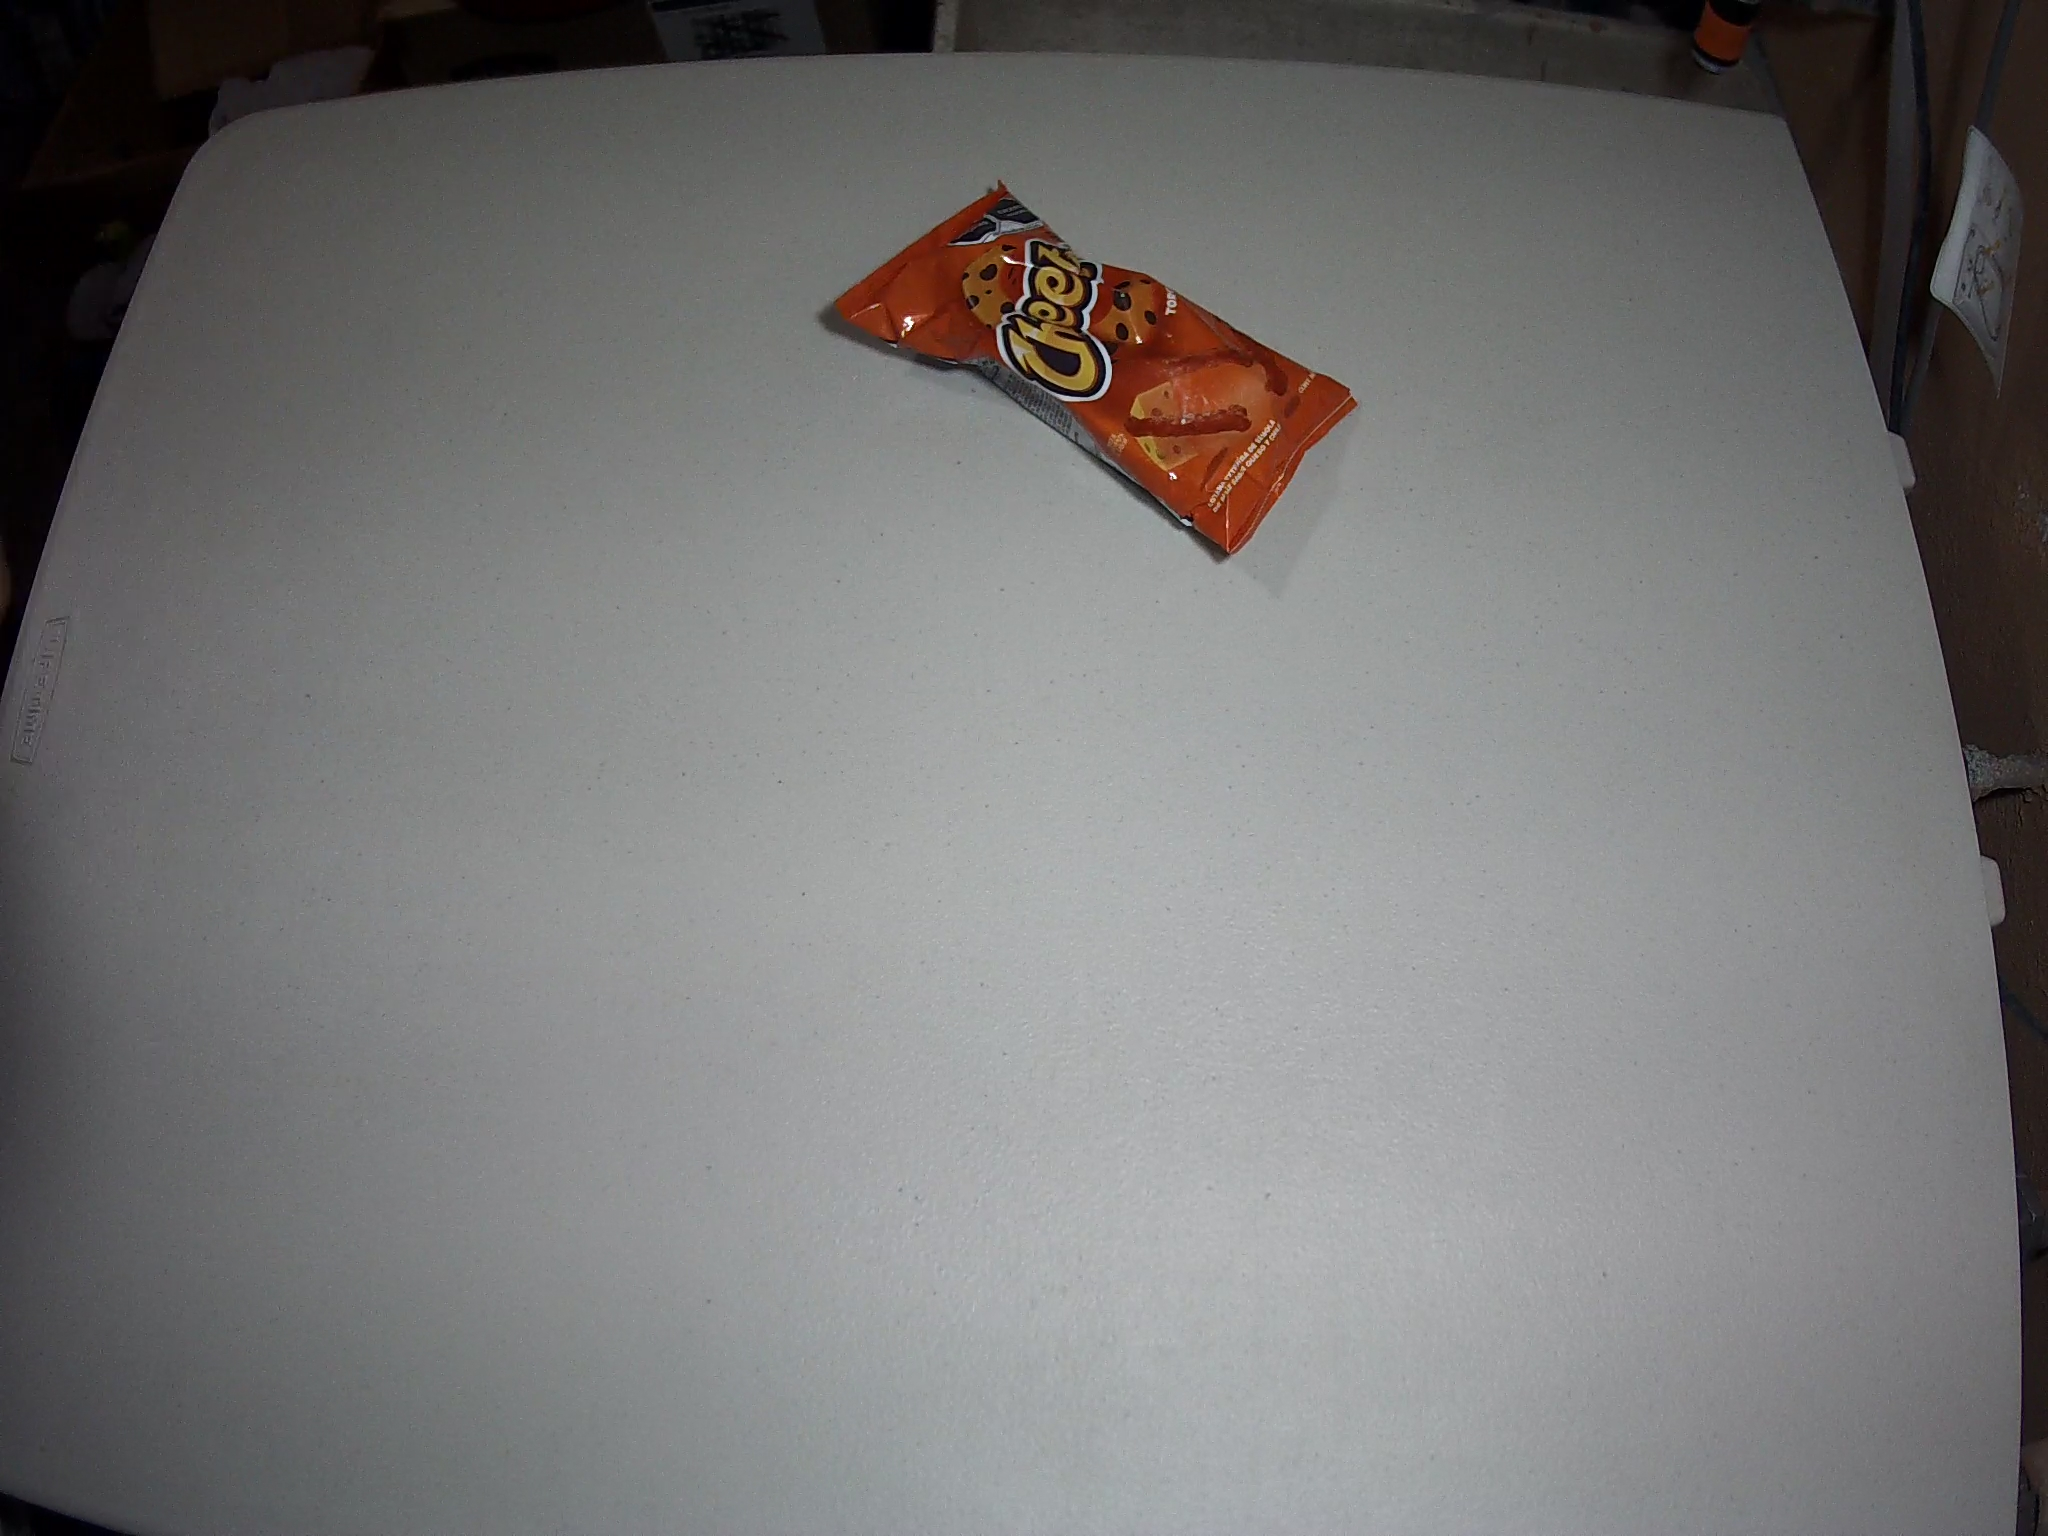CheetosTorciditos_55_F: (835, 181, 1363, 558)
